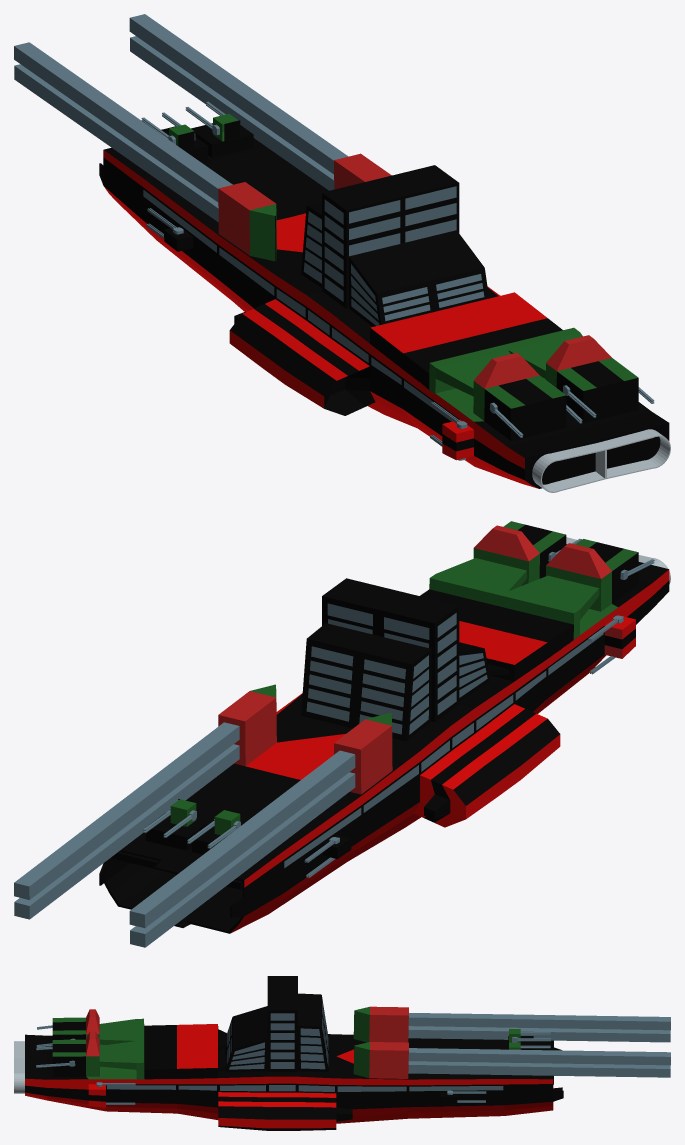
File: McCannon.fbx
3 views of the same model, one above another, from view 1: azimuth 30°, elevation 25°; view 2: azimuth 150°, elevation 25°; view 3: azimuth 270°, elevation 25° (orthographic). The views are drawn at different scales.
Visible parts, largest first — view 1: SHIP; view 2: SHIP; view 3: SHIP.
Boxes of the visible parts, bbox=[...] form: SHIP: bbox=[14, 14, 670, 492]; SHIP: bbox=[14, 521, 670, 947]; SHIP: bbox=[14, 976, 670, 1130].
Size of the model in its own units: 1.57 by 1.17 by 6.08.
